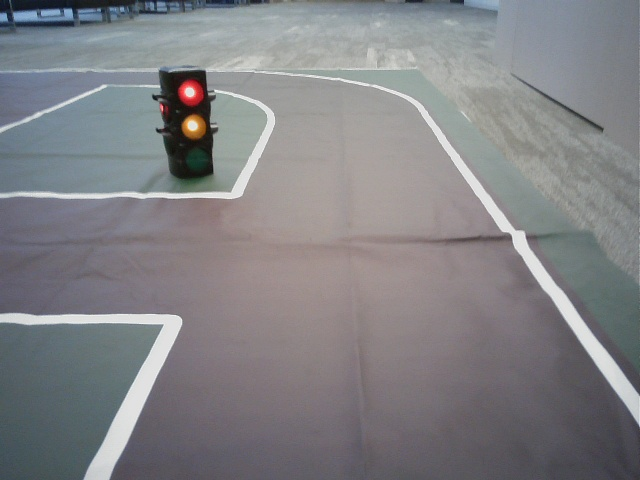red: (173, 71, 209, 171)
